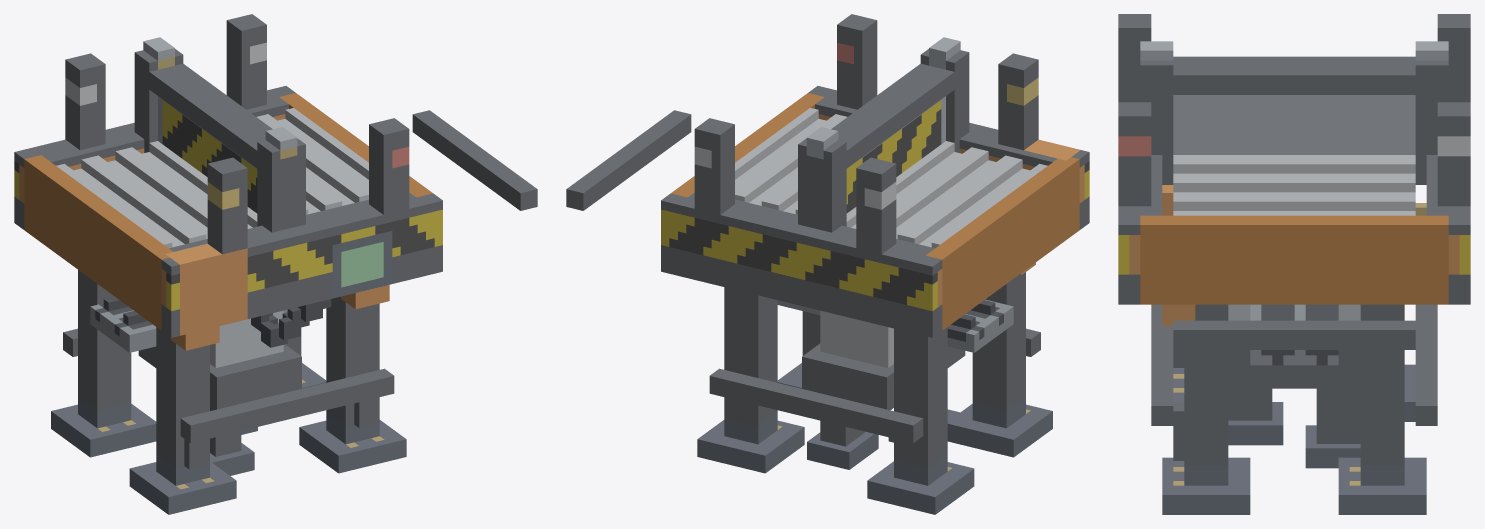
File: conveyor_gate.glb
The picture shows the model from 3 angles, left to right: view 1: azimuth 30°, elevation 25°; view 2: azimuth 150°, elevation 25°; view 3: azimuth 270°, elevation 25°; orthographic projection. The views are drawn at different scales.
Visible parts, largest first — view 1: frame, blade; view 2: frame, blade; view 3: frame, blade.
Boxes of the visible parts, left/top/right/bottom form: frame: left=14, top=14, right=537, bottom=514; blade: left=144, top=63, right=272, bottom=213; frame: left=566, top=14, right=1089, bottom=514; blade: left=831, top=63, right=954, bottom=213; frame: left=1118, top=14, right=1470, bottom=514; blade: left=1162, top=56, right=1426, bottom=154.
Size of the model in its own units: 1.44 by 1.25 by 1.
